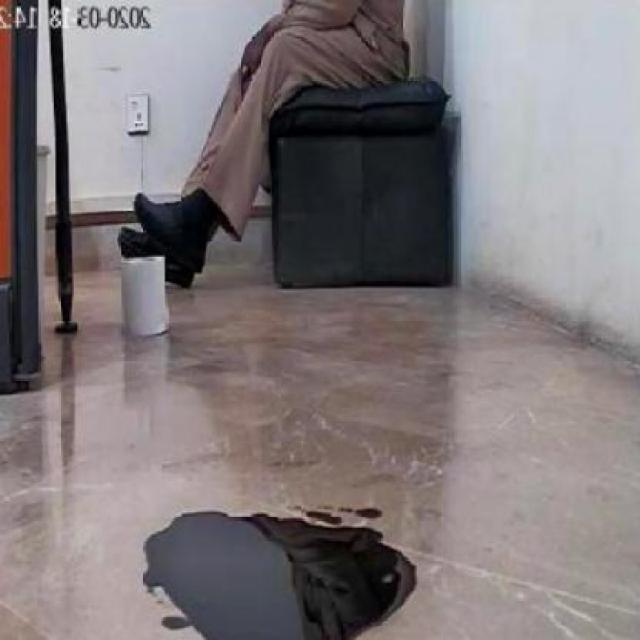spillage: (133, 506, 415, 640)
